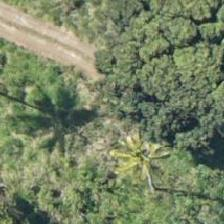coconut_tree: (96, 111, 186, 201)
